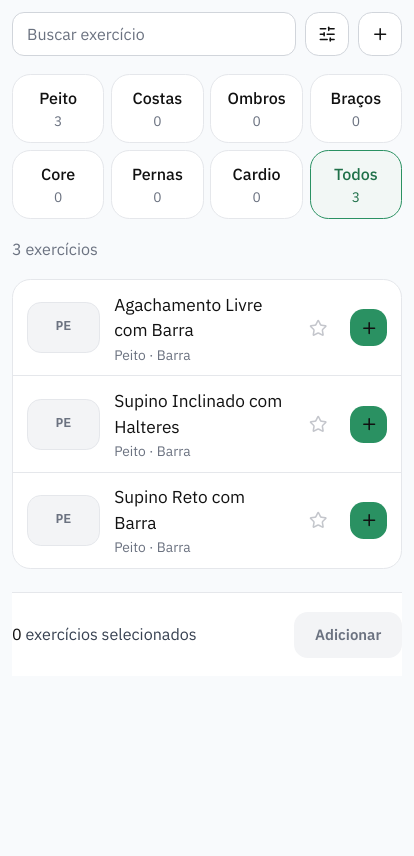
Test: multiple selection (building a routine) › toggles a row into the batch instead of reporting it immediately
Expected: the text "Supino Reto com Barra" is shown, left=114, top=485, right=245, bottom=534
Step 1. Click the button named "Adicionar Supino Reto com Barra" → (369, 521), box left=350, top=502, right=387, bottom=539
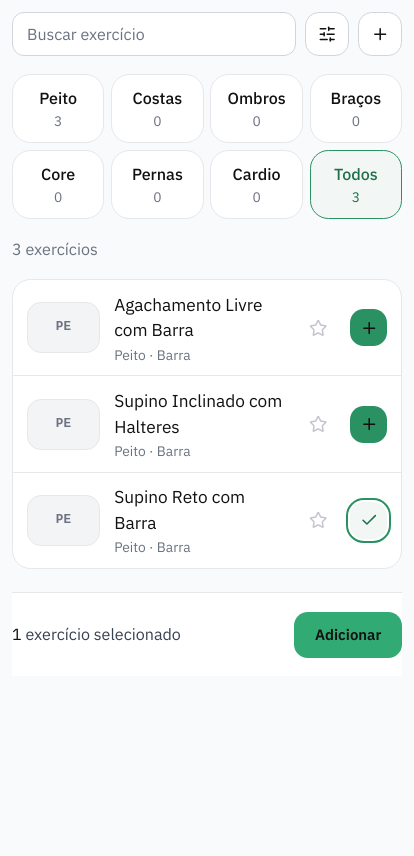
Now the button named "Remover Supino Reto com Barra da seleção" is shown, box left=350, top=502, right=387, bottom=539
Now the element showing "1 exercício selecionado" is shown, box left=12, top=623, right=181, bottom=646
